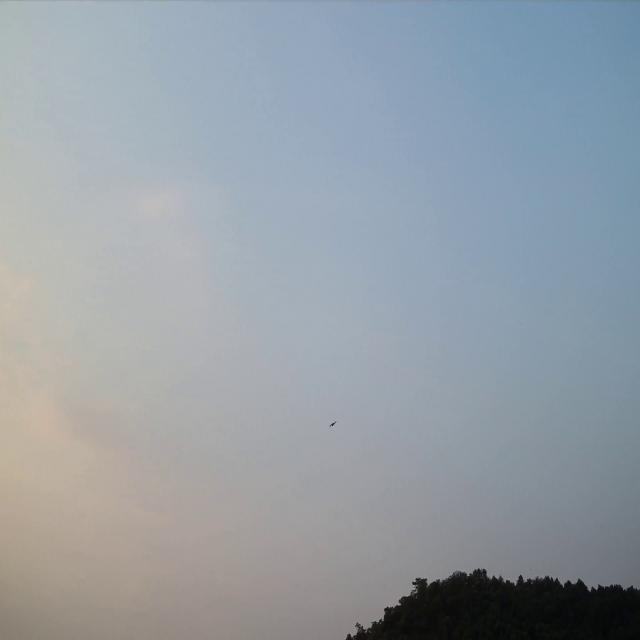UAV: (329, 420, 337, 428)
